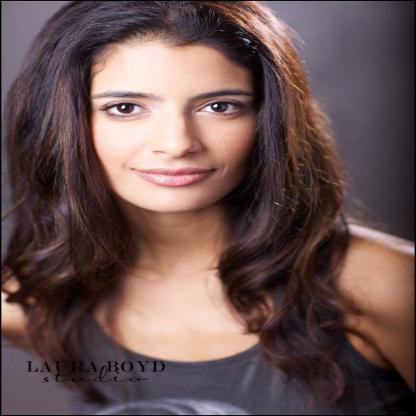long-hair: (11, 214, 352, 272)
